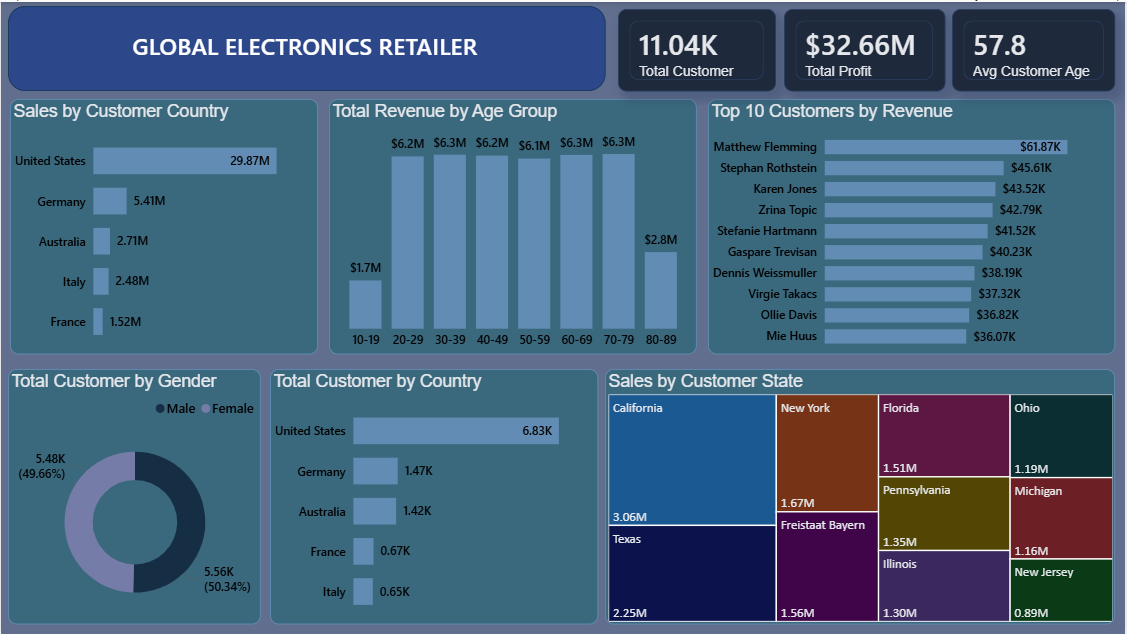

The dashboard page shown, as its layout file describes it:
{"tool":"powerbi","page":{"name":"Customer Insights","canvas":[1280,720],"ordinal":2},"visuals":[{"type":"donutChart","fields":{"Y":["Measures_Table.Total Customer"],"Category":["Customers.Gender"]},"box":[7.6,418.2,288.1,290.7],"z":0},{"type":"barChart","title":"Sales by Customer Country","fields":{"Y":["Measures_Table.Total Sales"],"Category":["Customers.Country"]},"box":[10.2,110.9,350.6,290.7],"z":1000},{"type":"columnChart","fields":{"Category":["Sales.Age Group"],"Y":["Measures_Table.Total Revenue"]},"box":[373.5,110.9,419.4,290.7],"z":2000},{"type":"cardVisual","fields":{"Data":["Measures_Table.Total Profit"]},"box":[892.4,7.6,183.6,94.3],"z":3000},{"type":"barChart","title":"Top 10 Customers by Revenue","fields":{"Category":["Customers.Name"],"Y":["Measures_Table.Total Revenue"]},"box":[805.7,110.9,464.1,290.7],"z":4000},{"type":"barChart","title":"Total Customer by Country","fields":{"Category":["Customers.Country"],"Y":["Measures_Table.Total Customer"]},"box":[306,418.2,373.5,290.7],"z":5000},{"type":"cardVisual","fields":{"Data":["Measures_Table.Total Customer"]},"box":[702.5,7.6,179.8,94.3],"z":6000},{"type":"cardVisual","fields":{"Data":["Measures_Table.Avg Customer Age"]},"box":[1083.7,7.6,186.1,94.3],"z":7000},{"type":"treemap","title":"Sales by Customer State","fields":{"Values":["Measures_Table.Total Sales"],"Group":["Customers.State"]},"box":[688.4,418.2,581.4,290.7],"z":8000},{"type":"group","id":"g1","title":"Group 1","box":[7.6,5.1,680.8,96.9],"z":9000},{"type":"shape","box":[7.6,5.1,680.8,96.9],"z":12000,"group":"g1"},{"type":"textbox","box":[133,26.6,425.8,53.5],"z":13000,"group":"g1"}]}

Visuals, with their boxes in screenshot pixels (x1, y1, x2, y2), scaled from the page's 1280x720 canvas onto the 1127x634 screenshot:
donutChart - Measures_Table.Total Customer x Customers.Gender: 7/368/260/624
"Sales by Customer Country" barChart: 9/98/318/354
columnChart - Sales.Age Group x Measures_Table.Total Revenue: 329/98/698/354
cardVisual - Measures_Table.Total Profit: 786/7/947/90
"Top 10 Customers by Revenue" barChart: 709/98/1118/354
"Total Customer by Country" barChart: 269/368/598/624
cardVisual - Measures_Table.Total Customer: 619/7/777/90
cardVisual - Measures_Table.Avg Customer Age: 954/7/1118/90
"Sales by Customer State" treemap: 606/368/1118/624
"Group 1" group: 7/4/606/90
shape: 7/4/606/90
textbox: 117/23/492/71
